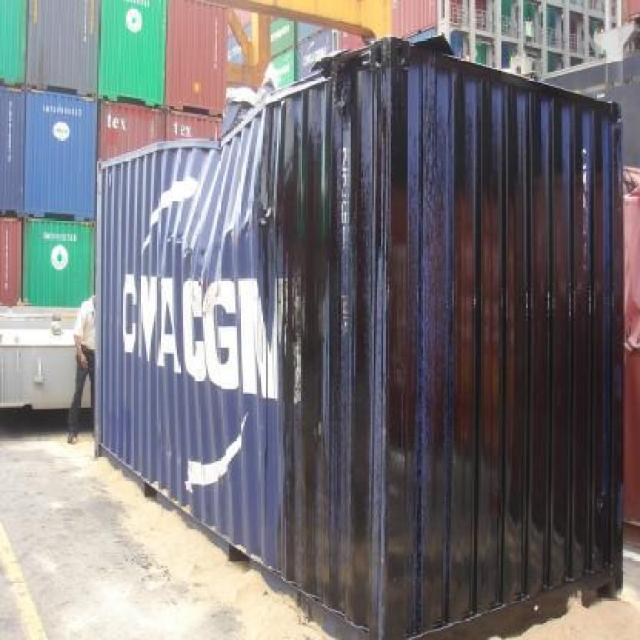dent: (135, 84, 290, 206)
